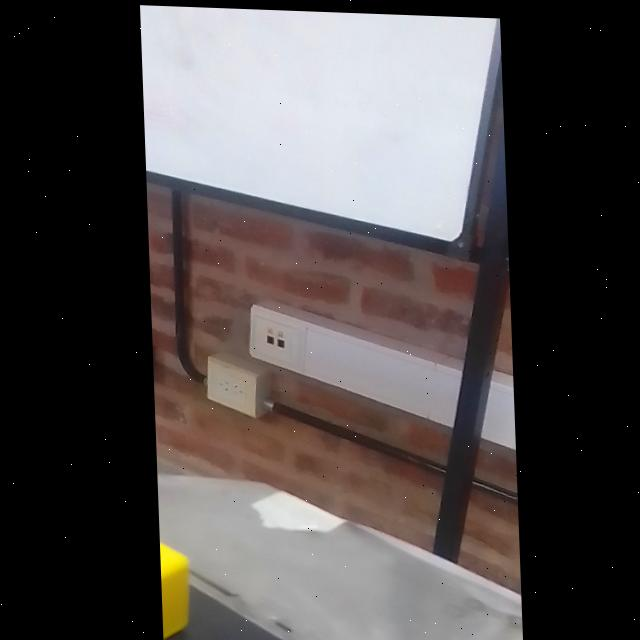yellowBox: (154, 475, 210, 640)
